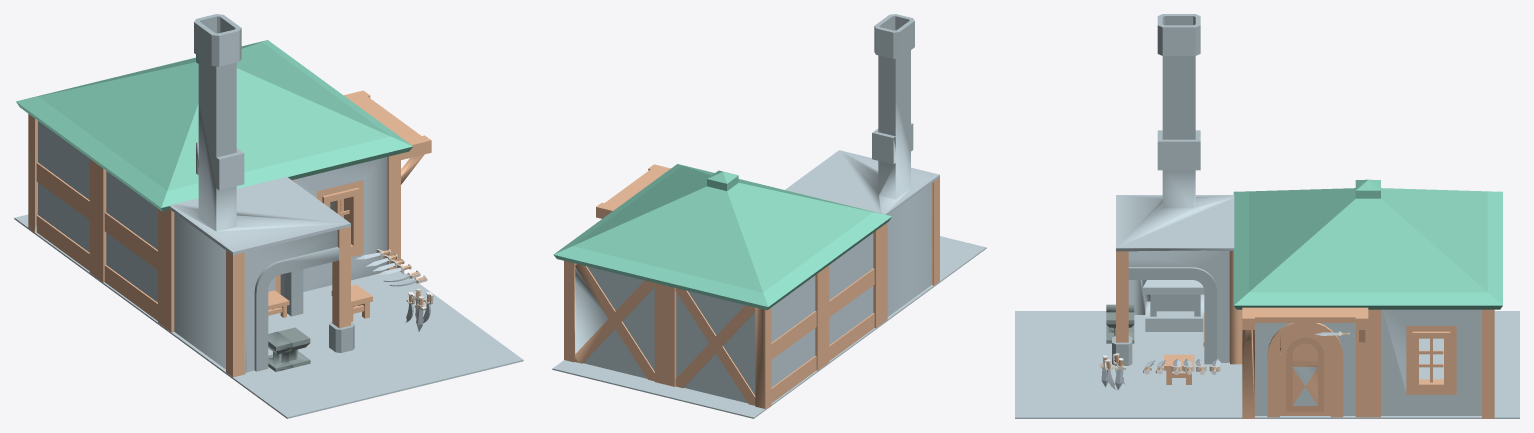
3 renders of one model, left to right at view 1: azimuth 30°, elevation 25°; view 2: azimuth 150°, elevation 25°; view 3: azimuth 270°, elevation 25°, orthographic. The views are drawn at different scales.
Parts seen in each view (by area): view 1: wallDoorwaySquareWideCurved, roofCorner, wallDoor, road.003, pillarWood.001, sword.003, hoodLarge; view 2: wallDoor, roofCorner, wallDoorwaySquareWideCurved, road.003; view 3: roofCorner, wallDoor, wallDoorwaySquareWideCurved, road.003, pillarWood.001, sword.003, hoodLarge.
Part boxes in pixels (x1,y1,x2,y2): wallDoorwaySquareWideCurved: (164,14,350,377); roofCorner: (16,40,412,211); wallDoor: (28,90,431,327); road.003: (14,214,523,418); pillarWood.001: (268,226,372,352); sword.003: (355,249,433,331); hoodLarge: (268,327,310,371); wallDoor: (564,164,881,408); roofCorner: (553,164,891,310); wallDoorwaySquareWideCurved: (785,14,939,323); road.003: (552,236,986,418); roofCorner: (1233,179,1502,309); wallDoor: (1242,307,1494,418); wallDoorwaySquareWideCurved: (1116,14,1242,364); road.003: (1015,311,1519,418); pillarWood.001: (1112,251,1204,384); sword.003: (1099,353,1220,390); hoodLarge: (1106,304,1134,343).
Size of the model in its own units: 234 by 263 by 400.
